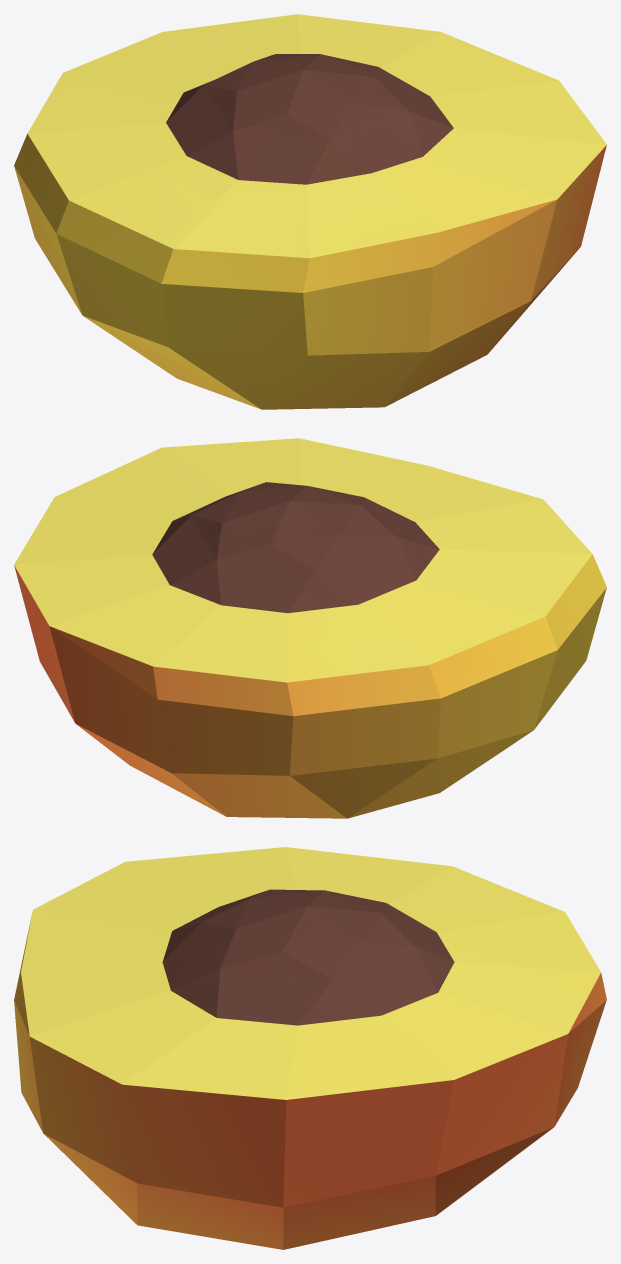
File: peach_001.obj
3 views of the same model, one above another, from view 1: azimuth 30°, elevation 25°; view 2: azimuth 150°, elevation 25°; view 3: azimuth 270°, elevation 25° (orthographic). The views are drawn at different scales.
Visible parts, largest first — view 1: peach_001; view 2: peach_001; view 3: peach_001.
Boxes of the visible parts, bbox=[...] form: peach_001: bbox=[14, 14, 606, 409]; peach_001: bbox=[14, 438, 606, 818]; peach_001: bbox=[14, 847, 606, 1249].
Size of the model in its own units: 0.0887 by 0.0501 by 0.0857.
